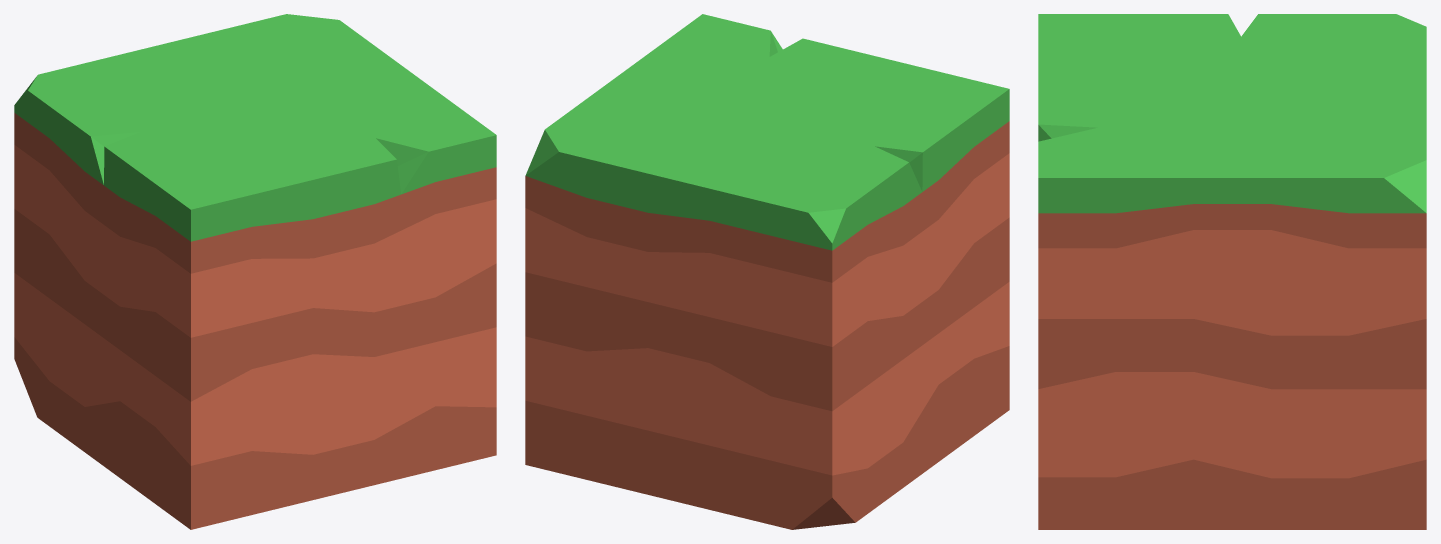
File: Stone030.fbx
3 renders of one model, left to right at view 1: azimuth 30°, elevation 25°; view 2: azimuth 150°, elevation 25°; view 3: azimuth 270°, elevation 25°, orthographic. The views are drawn at different scales.
Visible parts, largest first — view 1: Stone030; view 2: Stone030; view 3: Stone030.
Part boxes in pixels (x1,y1,x2,y2): Stone030: (14, 14, 496, 529); Stone030: (525, 14, 1009, 529); Stone030: (1038, 14, 1426, 529).
Bounding box in the file's own units: 156 × 156 × 156.
